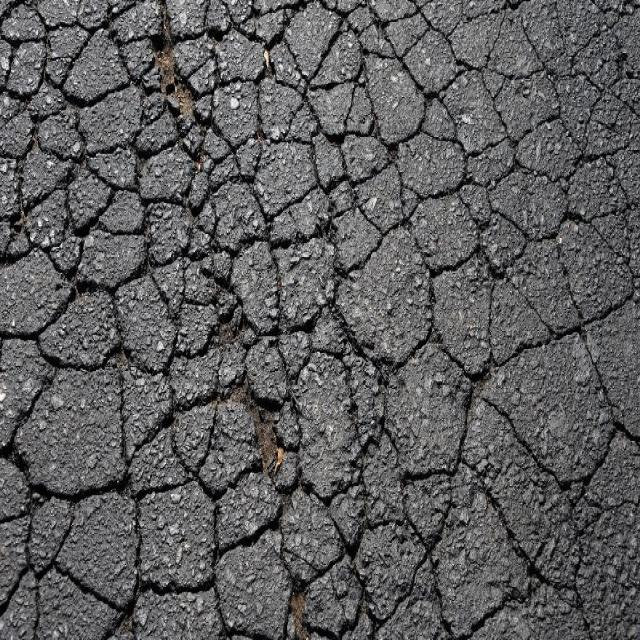Drain Hole: (6, 3, 627, 640)
